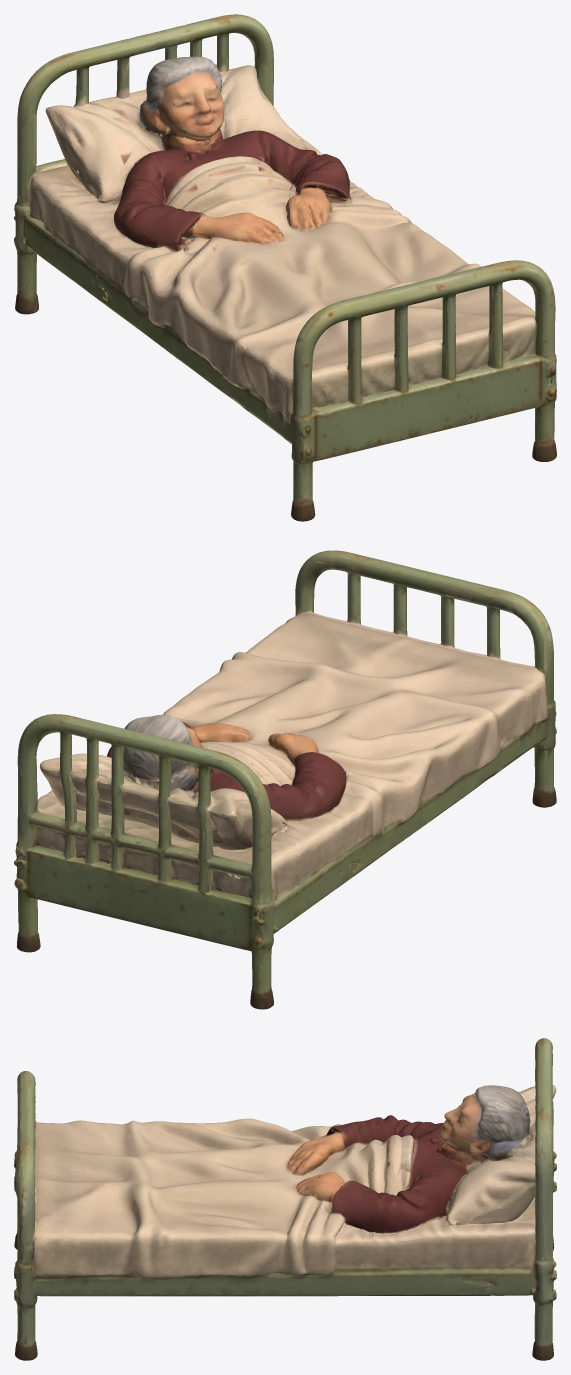
The model's file is bed-v2.glb.
3 renders of one model, top to bottom at view 1: azimuth 30°, elevation 25°; view 2: azimuth 150°, elevation 25°; view 3: azimuth 270°, elevation 25°, orthographic. The views are drawn at different scales.
Visible parts, largest first — view 1: geometry_0; view 2: geometry_0; view 3: geometry_0.
Boxes of the visible parts, x1,y1,x2,y2 form: geometry_0: (14,14,556,521); geometry_0: (14,550,556,1009); geometry_0: (14,1038,556,1360).
Bounding box in the file's own units: 0.5304 × 0.4612 × 1.
1 material, 1 textured.
